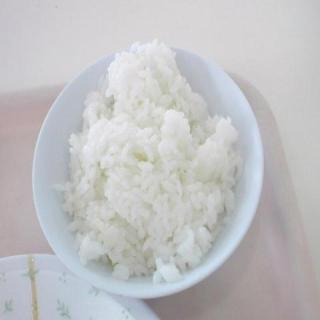Nasi: (51, 37, 245, 285)
